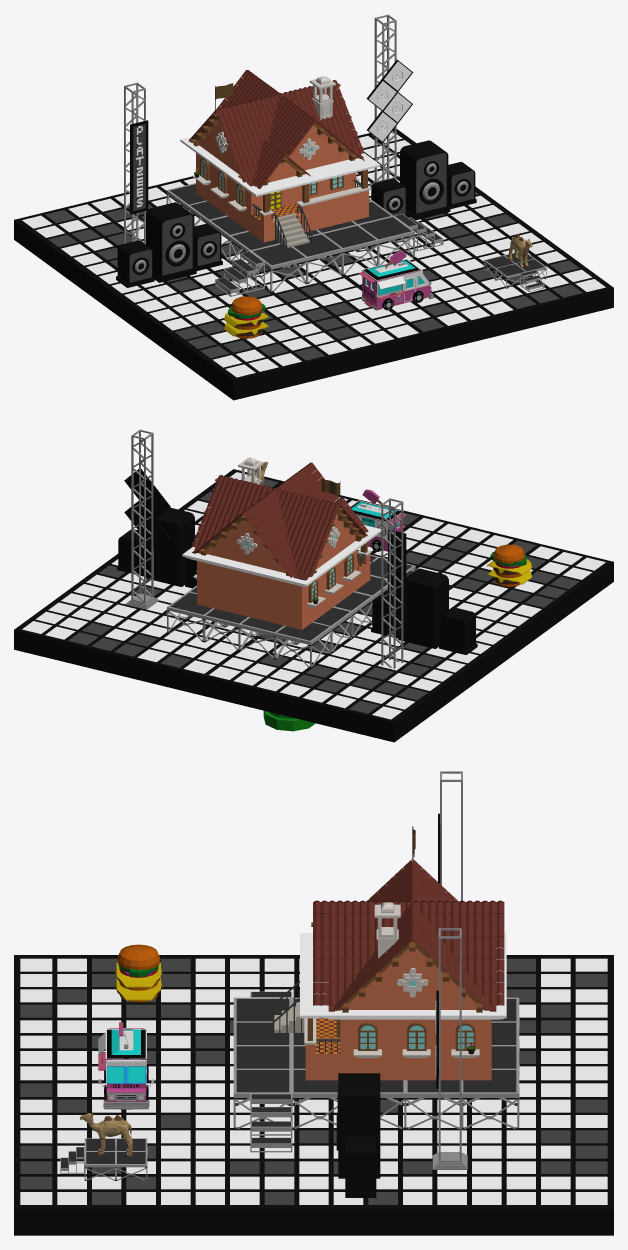
3 views of the same model, one above another, from view 1: azimuth 30°, elevation 25°; view 2: azimuth 150°, elevation 25°; view 3: azimuth 270°, elevation 25° (orthographic). The views are drawn at different scales.
Parts seen in each view (by area): view 1: Cube.008, Cube.1141, VEHICLES_ICE_CREAM_TRUCK, OBJRANDOM_HAMBURGER; view 2: Cube.008, Cube.1141, OBJRANDOM_HAMBURGER, VEHICLES_ICE_CREAM_TRUCK, UNDERGROUND_PIPES; view 3: Cube.008, Cube.1141, VEHICLES_ICE_CREAM_TRUCK, OBJRANDOM_HAMBURGER, ANIMAL_CAMELLO.
Part boxes in pixels (box(x1,y1,x2,y2)): Cube.008: box(14, 14, 613, 400); Cube.1141: box(180, 70, 379, 248); VEHICLES_ICE_CREAM_TRUCK: box(358, 250, 434, 310); OBJRANDOM_HAMBURGER: box(224, 296, 269, 338); Cube.008: box(14, 429, 613, 742); Cube.1141: box(182, 457, 381, 629); OBJRANDOM_HAMBURGER: box(487, 544, 531, 586); VEHICLES_ICE_CREAM_TRUCK: box(350, 489, 406, 551); UNDERGROUND_PIPES: box(263, 711, 315, 731); Cube.008: box(14, 771, 613, 1235); Cube.1141: box(272, 826, 506, 1080); VEHICLES_ICE_CREAM_TRUCK: box(98, 1022, 154, 1109); OBJRANDOM_HAMBURGER: box(115, 944, 162, 1002); ANIMAL_CAMELLO: box(80, 1112, 132, 1156).
Bounding box in the file's own units: 4000 × 2555 × 4000.
Materials: 54 (1 with a texture image).
